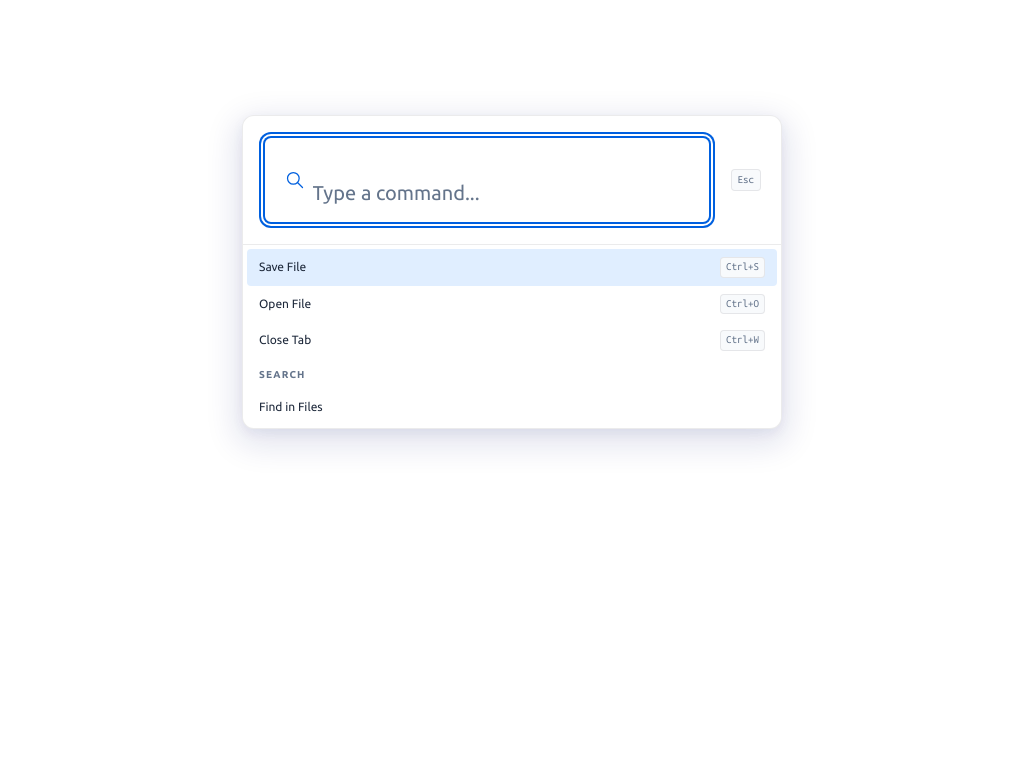
Test: FlowCommandPalette — interaction › shows the empty message when no commands match
The image size is (1024, 768).
Step 1. Type "zzzzz" into the dropdown → (512, 193), box left=312, top=178, right=710, bottom=208
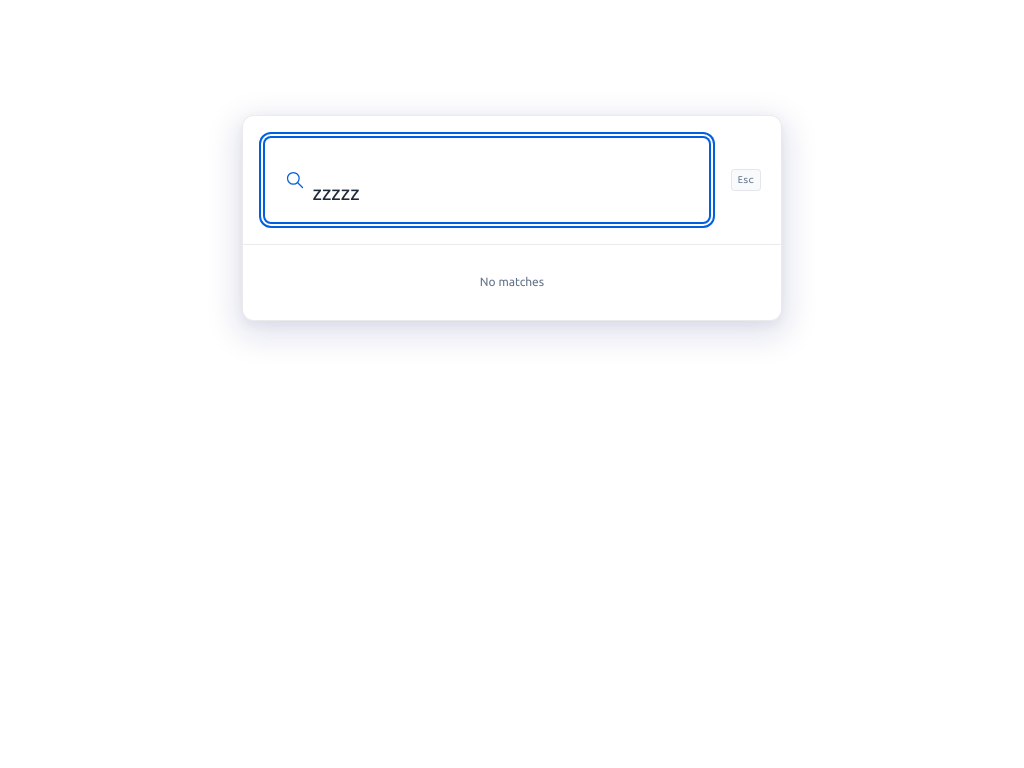
Now the text "No matches" is shown, box left=480, top=273, right=544, bottom=292
